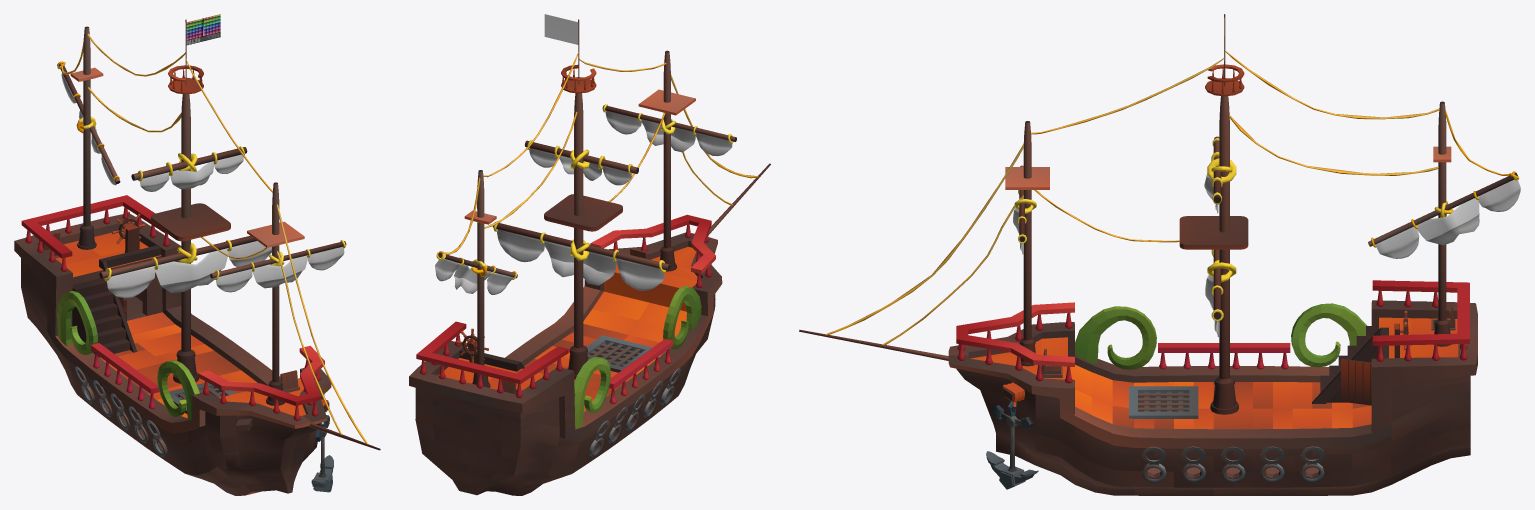
Rendered from Navio.fbx.
3 renders of one model, left to right at view 1: azimuth 30°, elevation 25°; view 2: azimuth 150°, elevation 25°; view 3: azimuth 270°, elevation 25°, orthographic. The views are drawn at different scales.
Visible parts, largest first — view 1: Main, MainMast, FrontMast, Support, Stairs, BackMast, Spiral, BézierCurve, MidMastClimbingSupport, CannonHoles, SideSupport, Anchor (+2 smaller); view 2: Main, MainMast, Support, FrontMast, BackMast, Spiral, BézierCurve, MidMastClimbingSupport, Grid, CannonHoles, SideSupport, Stairs (+1 smaller); view 3: Main, Support, BackMast, MainMast, Spiral, BézierCurve, FrontMast, CannonHoles, Grid, MidMastClimbingSupport, SideSupport, Stairs (+2 smaller).
Boxes of the visible parts, x1=… form: Main: x1=14, y1=214, x2=331, y2=495; MainMast: x1=99, y1=14, x2=271, y2=383; FrontMast: x1=210, y1=182, x2=346, y2=405; Support: x1=21, y1=195, x2=324, y2=420; Stairs: x1=72, y1=245, x2=160, y2=357; BackMast: x1=57, y1=26, x2=120, y2=249; Spiral: x1=57, y1=291, x2=199, y2=420; BézierCurve: x1=60, y1=34, x2=367, y2=444; MidMastClimbingSupport: x1=151, y1=203, x2=230, y2=241; CannonHoles: x1=75, y1=366, x2=167, y2=456; SideSupport: x1=91, y1=343, x2=159, y2=409; Anchor: x1=311, y1=415, x2=333, y2=492; Main: x1=409, y1=232, x2=722, y2=495; MainMast: x1=493, y1=14, x2=670, y2=379; Support: x1=416, y1=214, x2=715, y2=398; FrontMast: x1=602, y1=50, x2=736, y2=271; BackMast: x1=435, y1=170, x2=517, y2=387; Spiral: x1=574, y1=286, x2=701, y2=428; BézierCurve: x1=444, y1=52, x2=758, y2=254; MidMastClimbingSupport: x1=544, y1=194, x2=622, y2=231; Grid: x1=587, y1=335, x2=652, y2=372; CannonHoles: x1=589, y1=368, x2=680, y2=456; SideSupport: x1=609, y1=339, x2=673, y2=404; Stairs: x1=459, y1=348, x2=524, y2=371; Main: x1=948, y1=300, x2=1477, y2=495; Support: x1=956, y1=280, x2=1469, y2=383; BackMast: x1=1368, y1=101, x2=1520, y2=346; MainMast: x1=1204, y1=14, x2=1244, y2=414; Spiral: x1=1075, y1=303, x2=1367, y2=369; BézierCurve: x1=825, y1=50, x2=1512, y2=345; FrontMast: x1=1005, y1=121, x2=1049, y2=366; CannonHoles: x1=1141, y1=446, x2=1324, y2=483; Grid: x1=1129, y1=386, x2=1198, y2=418; MidMastClimbingSupport: x1=1179, y1=216, x2=1248, y2=249; SideSupport: x1=1158, y1=343, x2=1290, y2=369; Stairs: x1=1312, y1=326, x2=1388, y2=403.
Bounding box in the file's own units: 991 × 2326 × 3196.
